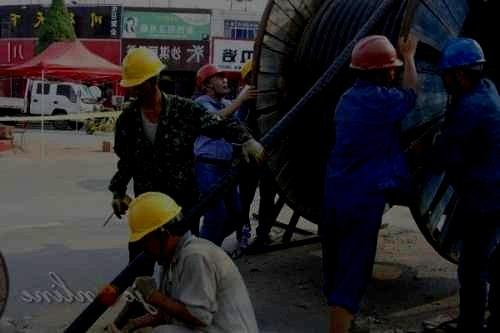helmet: (126, 191, 187, 263), (349, 34, 404, 86), (438, 36, 486, 94), (119, 47, 167, 104), (196, 63, 230, 96), (240, 58, 254, 85)
